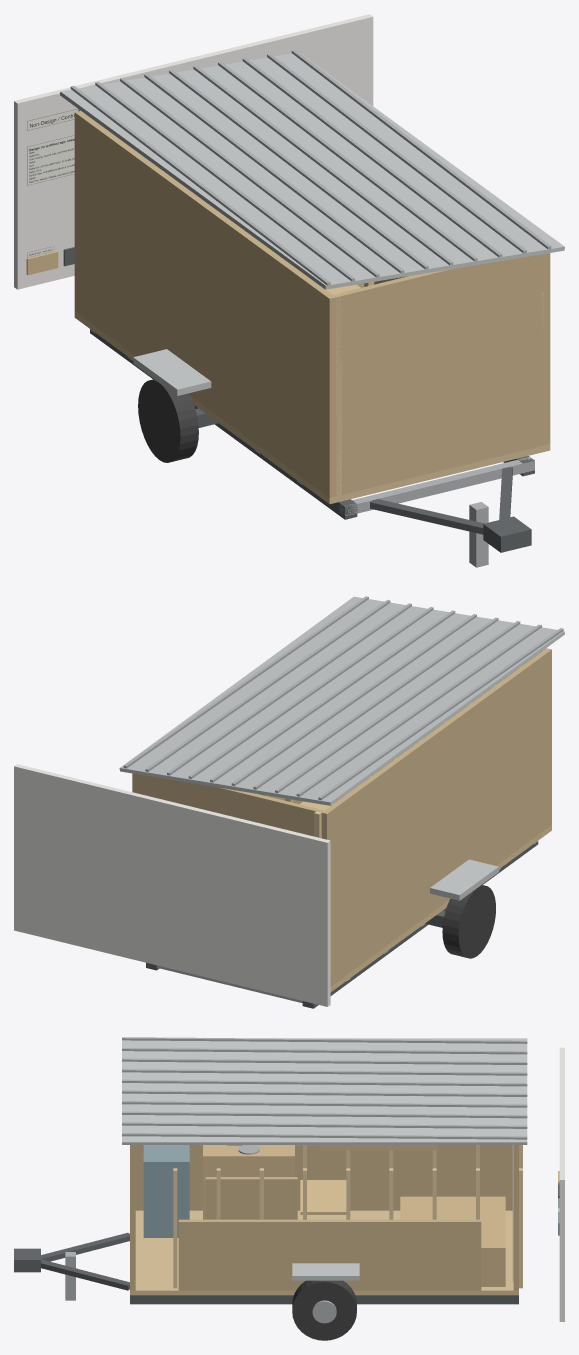
3 renders of one model, top to bottom at view 1: azimuth 30°, elevation 25°; view 2: azimuth 150°, elevation 25°; view 3: azimuth 270°, elevation 25°, orthographic. The views are drawn at different scales.
Visible parts, largest first — view 1: left plywood sheathing wall, single corrugated metal shed roof, front plywood wall, Non-Design / Contractor Reality label board backing, left trailer wheel.004, 6x12 plywood trailer deck, steel crossmember y=0.004, left simple metal fender.004, Non-Design / Contractor Reality design logic label, corrugation rib x=22, corrugation rib x=-2, corrugation rib x=38 (+13 smaller); view 2: Non-Design / Contractor Reality label board backing, left plywood sheathing wall, single corrugated metal shed roof, rear plywood wall with cheap door, left trailer wheel.004, left simple metal fender.004, corrugation rib x=-2, corrugation rib x=38, corrugation rib x=30, corrugation rib x=46, corrugation rib x=70, corrugation rib x=6 (+7 smaller); view 3: single corrugated metal shed roof, cutaway right framed half wall, left plywood sheathing wall, 6x12 plywood trailer deck, plywood bed platform, utility cabinet with water jug and battery, replaceable repair panel leaning inside, right steel frame rail.004, right trailer wheel.004, simple kitchenette cabinet, Non-Design / Contractor Reality label board backing, corrugation rib x=-2 (+21 smaller).
Boxes of the visible parts, x1=… form: left plywood sheathing wall: x1=74, y1=111, x2=335, y2=497; single corrugated metal shed roof: x1=60, y1=52, x2=564, y2=289; front plywood wall: x1=326, y1=253, x2=550, y2=497; Non-Design / Contractor Reality label board backing: x1=14, y1=14, x2=373, y2=289; left trailer wheel.004: x1=138, y1=379, x2=198, y2=462; 6x12 plywood trailer deck: x1=74, y1=311, x2=550, y2=504; steel crossmember y=0.004: x1=339, y1=457, x2=534, y2=515; left simple metal fender.004: x1=133, y1=349, x2=211, y2=395; Non-Design / Contractor Reality design logic label: x1=27, y1=135, x2=74, y2=185; corrugation rib x=22: x1=144, y1=73, x2=404, y2=273; corrugation rib x=-2: x1=70, y1=86, x2=330, y2=285; corrugation rib x=38: x1=193, y1=65, x2=453, y2=265; Non-Design / Contractor Reality label board backing: x1=14, y1=764, x2=330, y2=1006; left plywood sheathing wall: x1=321, y1=648, x2=551, y2=986; single corrugated metal shed roof: x1=119, y1=596, x2=564, y2=805; rear plywood wall with cheap door: x1=132, y1=773, x2=329, y2=839; left trailer wheel.004: x1=442, y1=885, x2=495, y2=958; left simple metal fender.004: x1=430, y1=859, x2=498, y2=900; corrugation rib x=-2: x1=318, y1=628, x2=563, y2=800; corrugation rib x=38: x1=210, y1=610, x2=455, y2=782; corrugation rib x=30: x1=231, y1=614, x2=476, y2=786; corrugation rib x=46: x1=188, y1=607, x2=433, y2=778; corrugation rib x=70: x1=123, y1=596, x2=368, y2=768; corrugation rib x=6: x1=296, y1=624, x2=541, y2=796; single corrugated metal shed roof: x1=122, y1=1038, x2=527, y2=1144; cutaway right framed half wall: x1=178, y1=1219, x2=481, y2=1290; left plywood sheathing wall: x1=135, y1=1145, x2=512, y2=1210; 6x12 plywood trailer deck: x1=130, y1=1210, x2=518, y2=1295; plywood bed platform: x1=400, y1=1196, x2=505, y2=1286; utility cabinet with water jug and battery: x1=143, y1=1145, x2=189, y2=1237; replaceable repair panel leaning inside: x1=205, y1=1177, x2=297, y2=1219; right steel frame rail.004: x1=130, y1=1295, x2=518, y2=1304; right trailer wheel.004: x1=292, y1=1280, x2=356, y2=1340; simple kitchenette cabinet: x1=203, y1=1145, x2=294, y2=1219; Non-Design / Contractor Reality label board backing: x1=559, y1=1047, x2=564, y2=1321; corrugation rib x=-2: x1=122, y1=1037, x2=527, y2=1043.
Size of the model in its own units: 3.07 by 2.25 by 5.18.
Materials: 25 (9 with a texture image).
